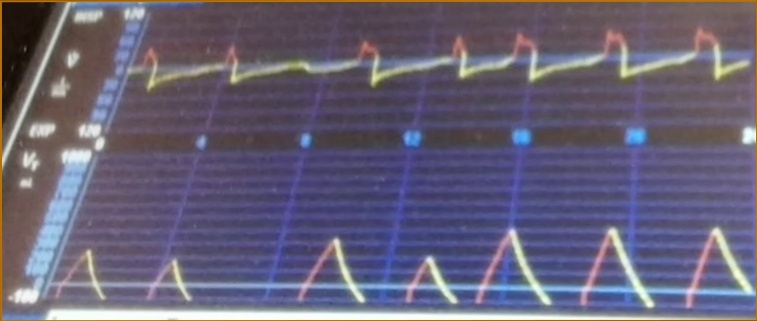Ineffective_effort Flow: (135, 24, 747, 114)
Ineffective_effort Volume: (55, 221, 754, 308)
